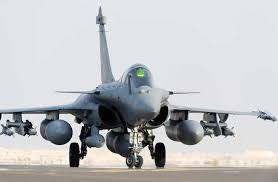fighter: (1, 5, 278, 166)
